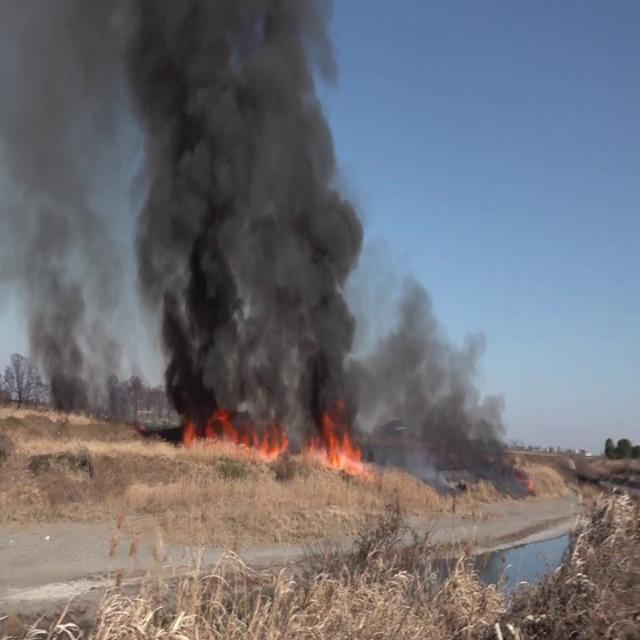Fire: (178, 398, 290, 462), (310, 406, 370, 478)
Smoke: (114, 0, 370, 427), (0, 1, 128, 396), (366, 268, 532, 488)
